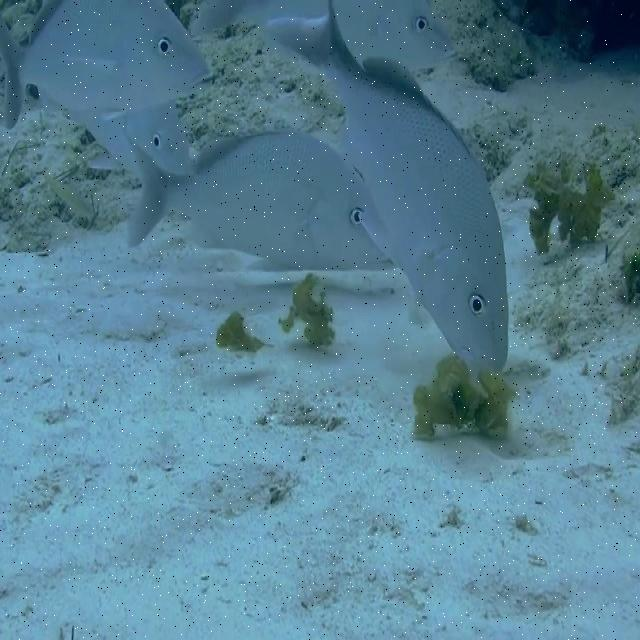fish: (260, 0, 509, 376), (128, 129, 394, 271), (0, 1, 212, 130)
